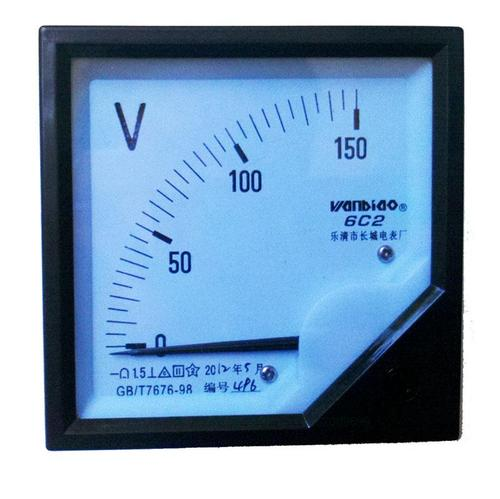pointer: (68, 55, 435, 423)
